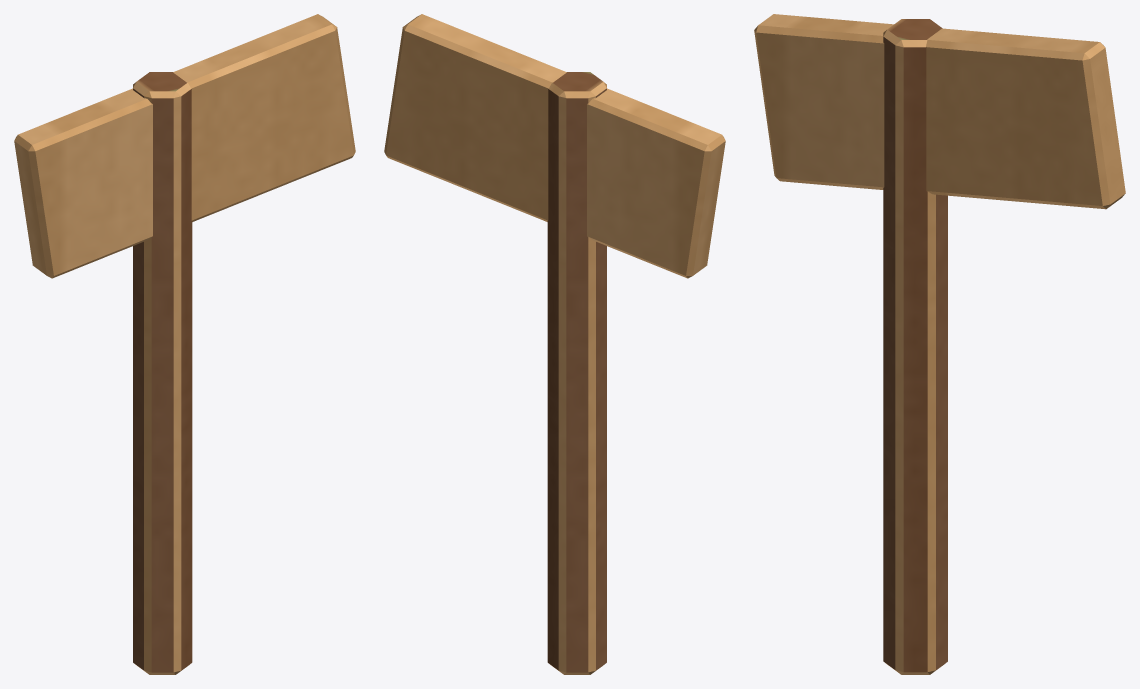
File: sm_prop_signpost.glb
3 views of the same model, side by side, from view 1: azimuth 30°, elevation 25°; view 2: azimuth 150°, elevation 25°; view 3: azimuth 330°, elevation 25° (orthographic). The views are drawn at different scales.
Visible parts, largest first — view 1: sm_prop_signpost; view 2: sm_prop_signpost; view 3: sm_prop_signpost.
Boxes of the visible parts, bbox=[...] form: sm_prop_signpost: bbox=[14, 14, 355, 674]; sm_prop_signpost: bbox=[384, 14, 725, 674]; sm_prop_signpost: bbox=[754, 14, 1125, 674].
Size of the model in its own units: 0.2936 by 0.5196 by 0.046.
1 material, 1 textured.
